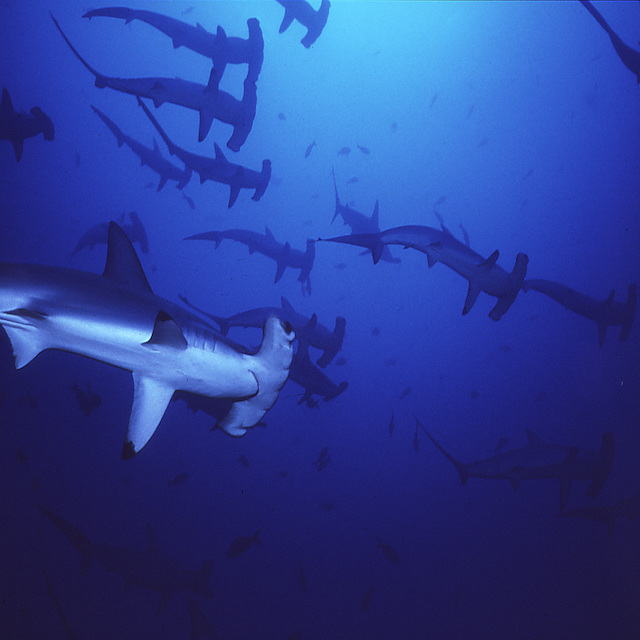hammerhead: (202, 310, 302, 489), (441, 239, 558, 335), (508, 416, 614, 498), (278, 299, 369, 374), (207, 69, 270, 162), (263, 224, 340, 300), (288, 1, 363, 73), (70, 201, 167, 255), (577, 268, 640, 345), (224, 152, 286, 226), (282, 353, 362, 410), (211, 28, 269, 90), (586, 466, 640, 523), (1, 107, 69, 148), (156, 145, 197, 202)
